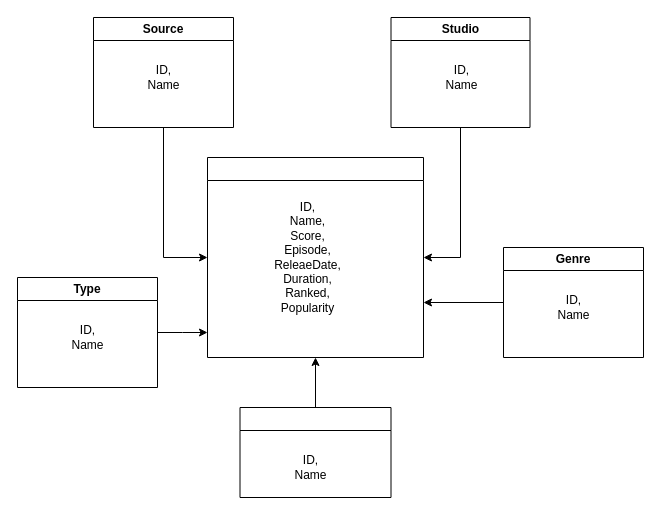
Some shapes in this 661 by 515 pixel diagram are drawn without their labels. Here are the shapes that lost their labels. From the top down, the box of each, then its label:
(206, 156, 424, 358): Anime
(239, 406, 391, 498): Producer
